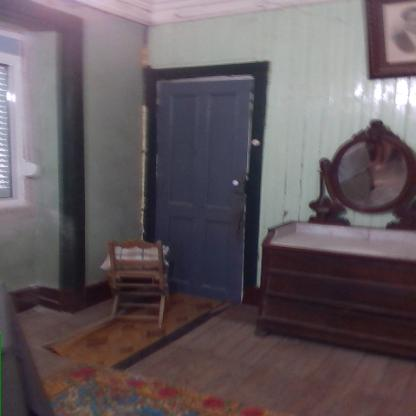closed: (140, 55, 279, 303)
